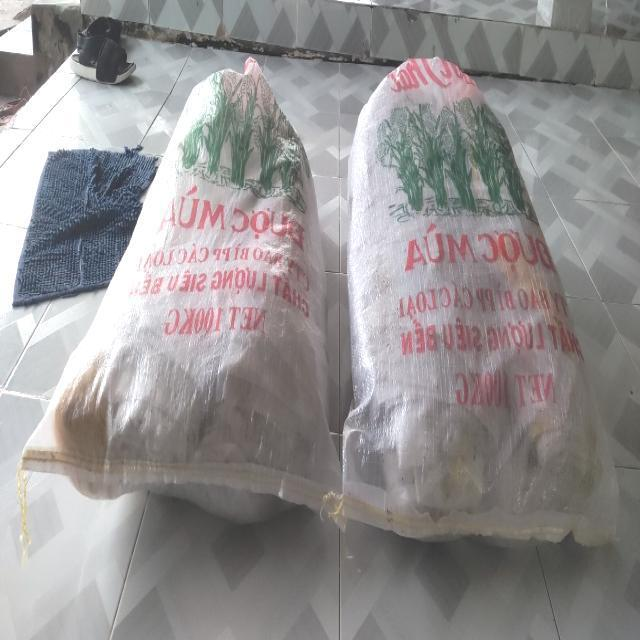gunny_bag: (20, 59, 340, 518), (342, 56, 619, 543)
